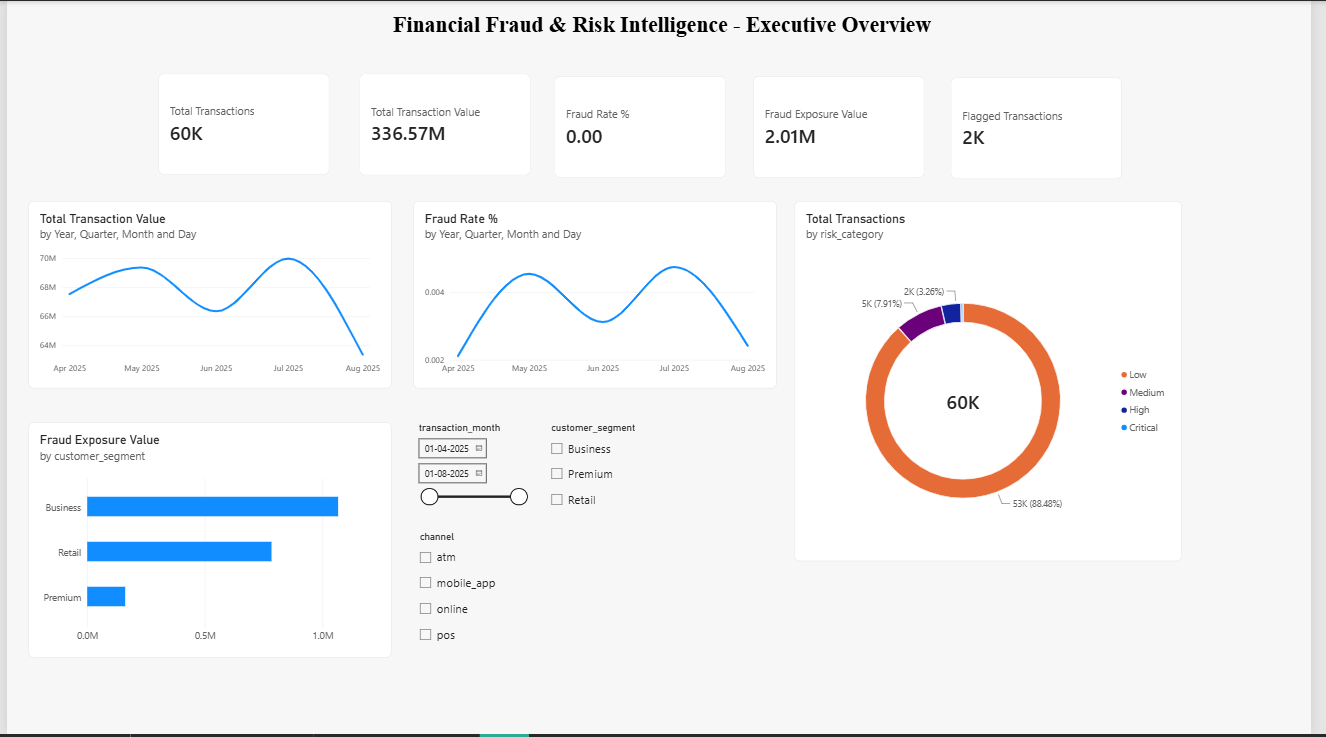

Layout of this report page (visuals, bound fields, positions):
{"tool":"powerbi","page":{"name":"Executive Overview","canvas":[1920,1080],"ordinal":0},"visuals":[{"type":"textbox","box":[9.2,16.6,1910.4,46],"z":0},{"type":"cardVisual","fields":{"Data":["_Measures.Total Transactions"]},"box":[222.6,106.7,252.1,149.1],"z":1000},{"type":"cardVisual","fields":{"Data":["_Measures.Fraud Rate %"]},"box":[806,110.4,252,150],"z":2000},{"type":"cardVisual","fields":{"Data":["_Measures.Fraud Exposure Value"]},"box":[1098.7,110.4,252,150],"z":3000},{"type":"cardVisual","fields":{"Data":["_Measures.Flagged Transactions"]},"box":[1389.5,112.3,252,150],"z":4000},{"type":"cardVisual","fields":{"Data":["_Measures.Total Transaction Value"]},"box":[518.9,106.7,252,150],"z":5000},{"type":"lineChart","fields":{"Category":["fact_transactions.transaction_month.Variation.Date Hierarchy.Year","fact_transactions.transaction_month.Variation.Date Hierarchy.Quarter","fact_transactions.transaction_month.Variation.Date Hierarchy.Month","fact_transactions.transaction_month.Variation.Date Hierarchy.Day"],"Y":["_Measures.Total Transaction Value"]},"box":[31.3,294.5,535.6,276.1],"z":6000},{"type":"lineChart","fields":{"Category":["fact_transactions.transaction_month.Variation.Date Hierarchy.Year","fact_transactions.transaction_month.Variation.Date Hierarchy.Quarter","fact_transactions.transaction_month.Variation.Date Hierarchy.Month","fact_transactions.transaction_month.Variation.Date Hierarchy.Day"],"Y":["_Measures.Fraud Rate %"]},"box":[598.2,294.5,535.6,276.1],"z":7000},{"type":"donutChart","fields":{"Category":["fact_transactions.risk_category"],"Y":["_Measures.Total Transactions"]},"box":[1159.5,294.5,570.6,530.1],"z":8000},{"type":"clusteredBarChart","fields":{"Category":["fact_transactions.customer_segment"],"Y":["_Measures.Fraud Exposure Value"]},"box":[31.3,620.2,535.6,346],"z":9000},{"type":"slicer","fields":{"Values":["fact_transactions.transaction_month"]},"box":[598.2,620.2,171.2,160.1],"z":10000},{"type":"slicer","fields":{"Values":["fact_transactions.customer_segment"]},"box":[793.3,620.2,171,173],"z":11000},{"type":"slicer","fields":{"Values":["fact_transactions.channel"]},"box":[600,780.4,171,173],"z":12000}]}

Visuals, with their boxes in screenshot pixels (x1, y1, x2, y2), scaled from the page's 1920x1080 canvas onto the 1326x737 screenshot:
textbox: [left=6, top=11, right=1325, bottom=43]
cardVisual - _Measures.Total Transactions: [left=154, top=73, right=328, bottom=175]
cardVisual - _Measures.Fraud Rate %: [left=557, top=75, right=731, bottom=178]
cardVisual - _Measures.Fraud Exposure Value: [left=759, top=75, right=933, bottom=178]
cardVisual - _Measures.Flagged Transactions: [left=960, top=77, right=1134, bottom=179]
cardVisual - _Measures.Total Transaction Value: [left=358, top=73, right=532, bottom=175]
lineChart - fact_transactions.transaction_month.Variation.Date Hierarchy.Year x fact_transactions.transaction_month.Variation.Date Hierarchy.Quarter: [left=22, top=201, right=392, bottom=389]
lineChart - fact_transactions.transaction_month.Variation.Date Hierarchy.Year x fact_transactions.transaction_month.Variation.Date Hierarchy.Quarter: [left=413, top=201, right=783, bottom=389]
donutChart - fact_transactions.risk_category x _Measures.Total Transactions: [left=801, top=201, right=1195, bottom=563]
clusteredBarChart - fact_transactions.customer_segment x _Measures.Fraud Exposure Value: [left=22, top=423, right=392, bottom=659]
slicer - fact_transactions.transaction_month: [left=413, top=423, right=531, bottom=532]
slicer - fact_transactions.customer_segment: [left=548, top=423, right=666, bottom=541]
slicer - fact_transactions.channel: [left=414, top=533, right=532, bottom=651]
